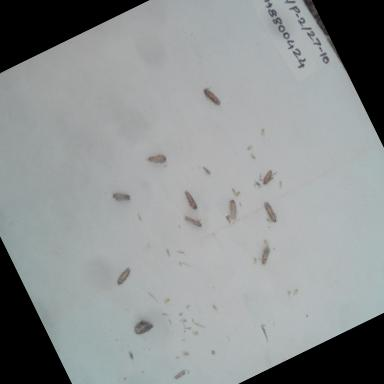pbw: (110, 182, 142, 215), (107, 260, 137, 290), (130, 314, 156, 339), (200, 82, 222, 110), (143, 148, 169, 171), (222, 196, 244, 222), (254, 242, 277, 266), (182, 208, 204, 232), (254, 166, 278, 188), (261, 198, 281, 224), (181, 187, 199, 212)
